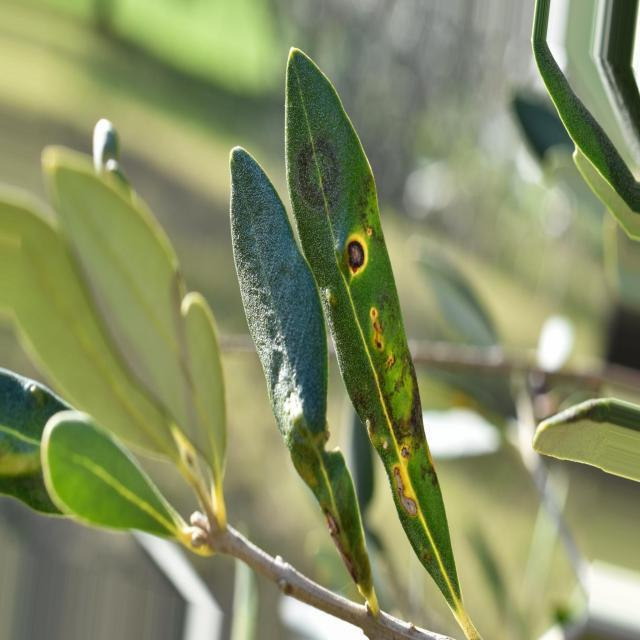OlivePeacockSpot: (233, 46, 482, 640)
